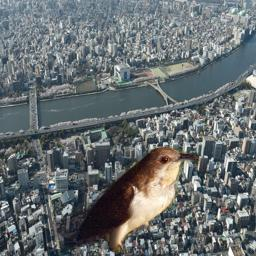Cuckoo: (53, 146, 200, 254)
